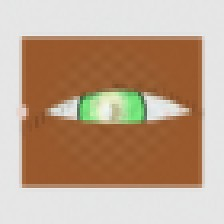corneal_ulcer: (79, 84, 140, 133)
